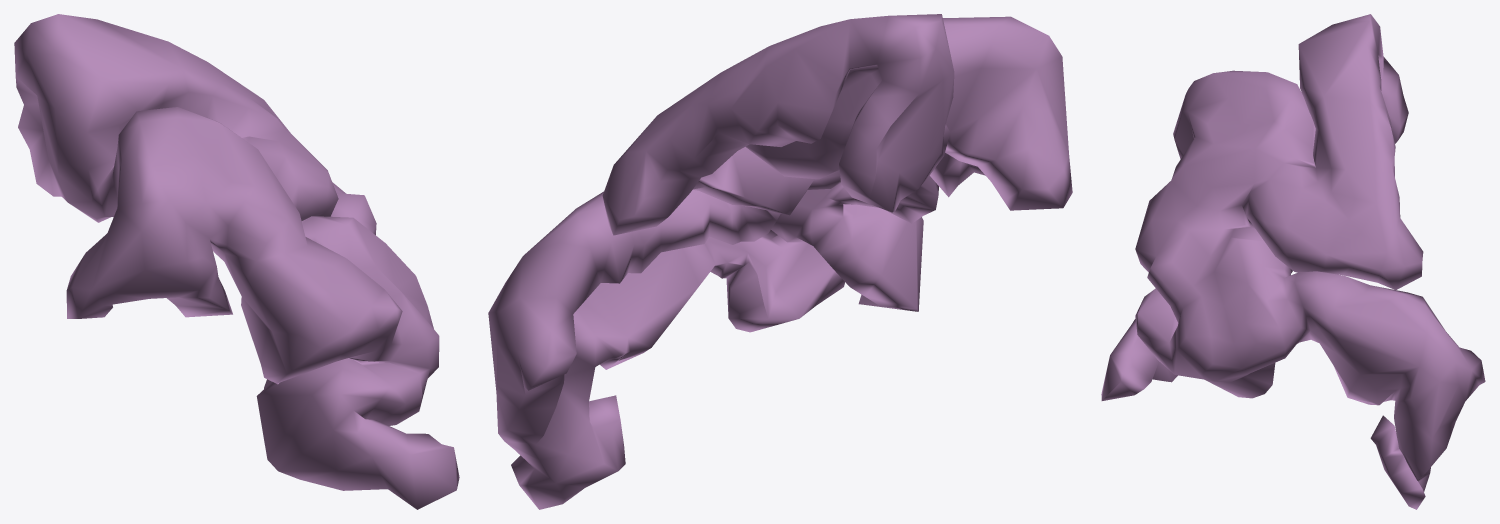
The picture shows the model from 3 angles, left to right: view 1: azimuth 30°, elevation 25°; view 2: azimuth 150°, elevation 25°; view 3: azimuth 270°, elevation 25°; orthographic projection. The views are drawn at different scales.
Parts seen in each view (by area): view 1: 左侧角回; view 2: 左侧角回; view 3: 左侧角回.
Part boxes in pixels (box(x1,y1,x2,y2)): 左侧角回: box(14, 14, 459, 509); 左侧角回: box(488, 14, 1072, 509); 左侧角回: box(1101, 14, 1485, 509).
Bounding box in the file's own units: 0.0636 × 0.0764 × 0.0697.
